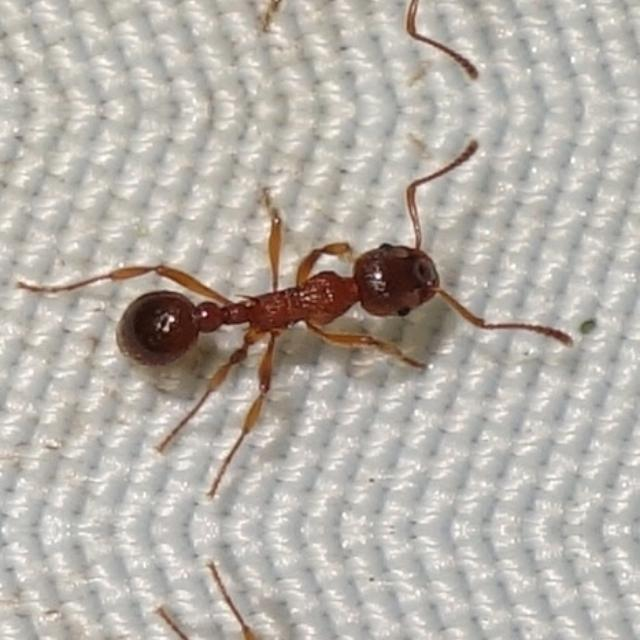Myrmica: (112, 163, 510, 394), (112, 0, 510, 54)
